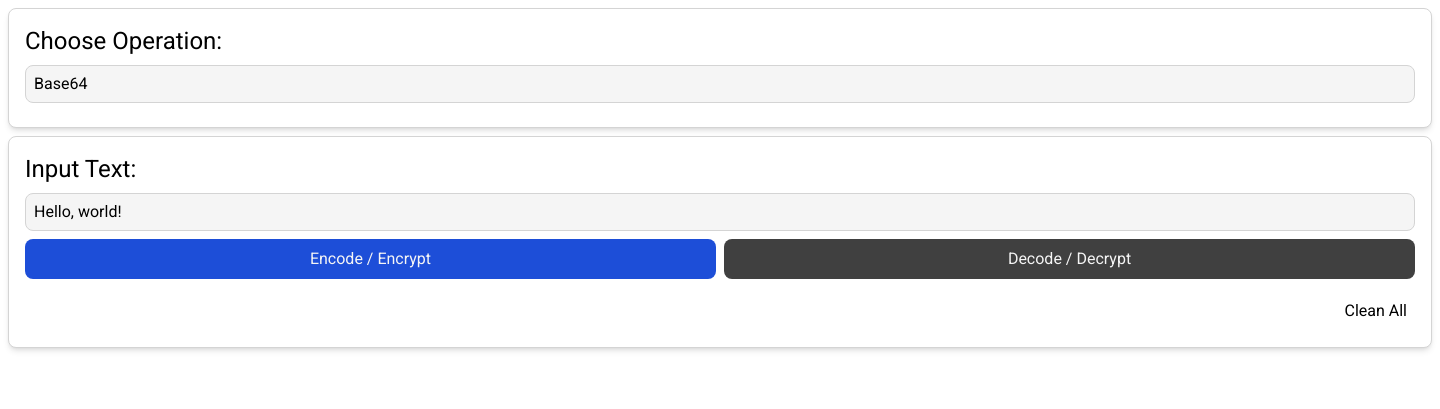
Test: TextProcessor Component › shows a message when text is missing and encode is clicked
Select "Base64" in the dropdown named "Select an operation" at coordinates (720, 84), box [25,65,1415,103]
Clear the text box with placeholder "Enter text here" at coordinates (720, 212), box [25,193,1415,231]
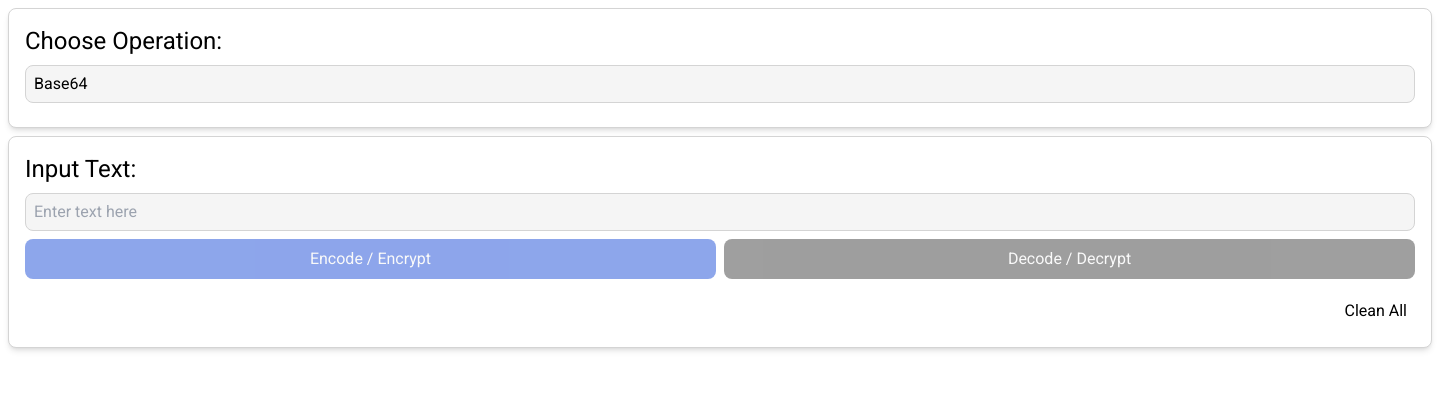
Click the button "Encode / Encrypt" at coordinates (370, 259), box [25,239,716,279]
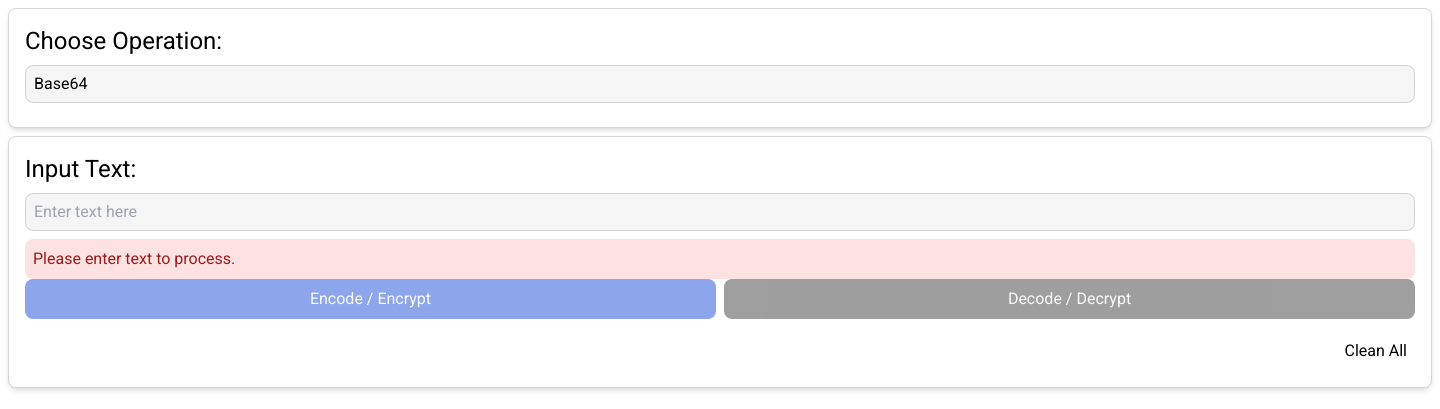
Result: the text "Please enter text to process." is shown at [25,239,1415,279]
